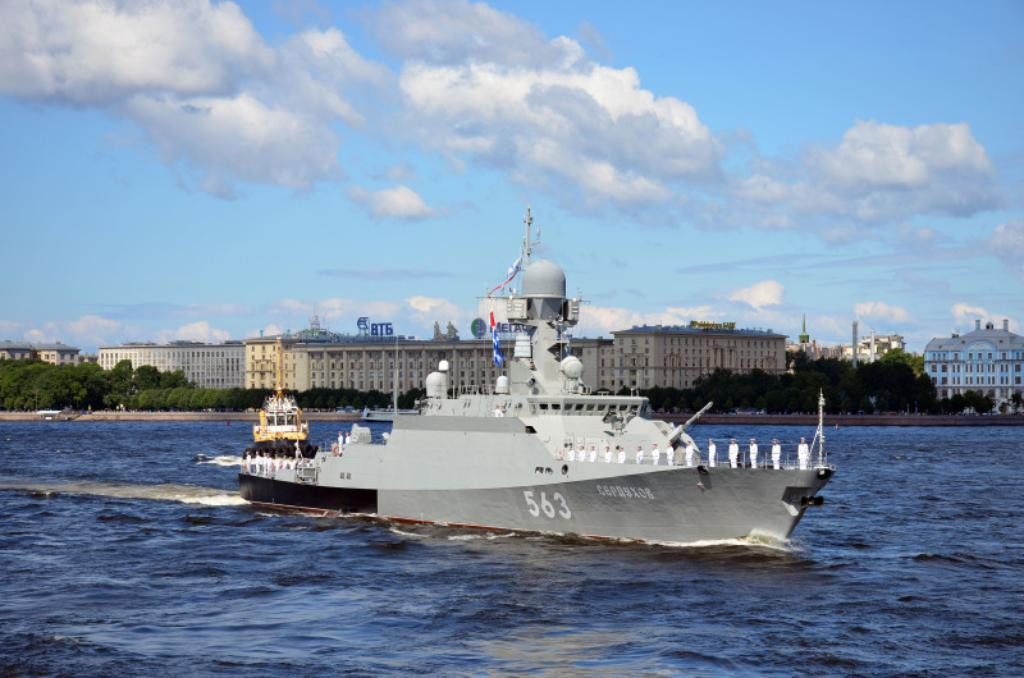Warship: (234, 207, 838, 551)
